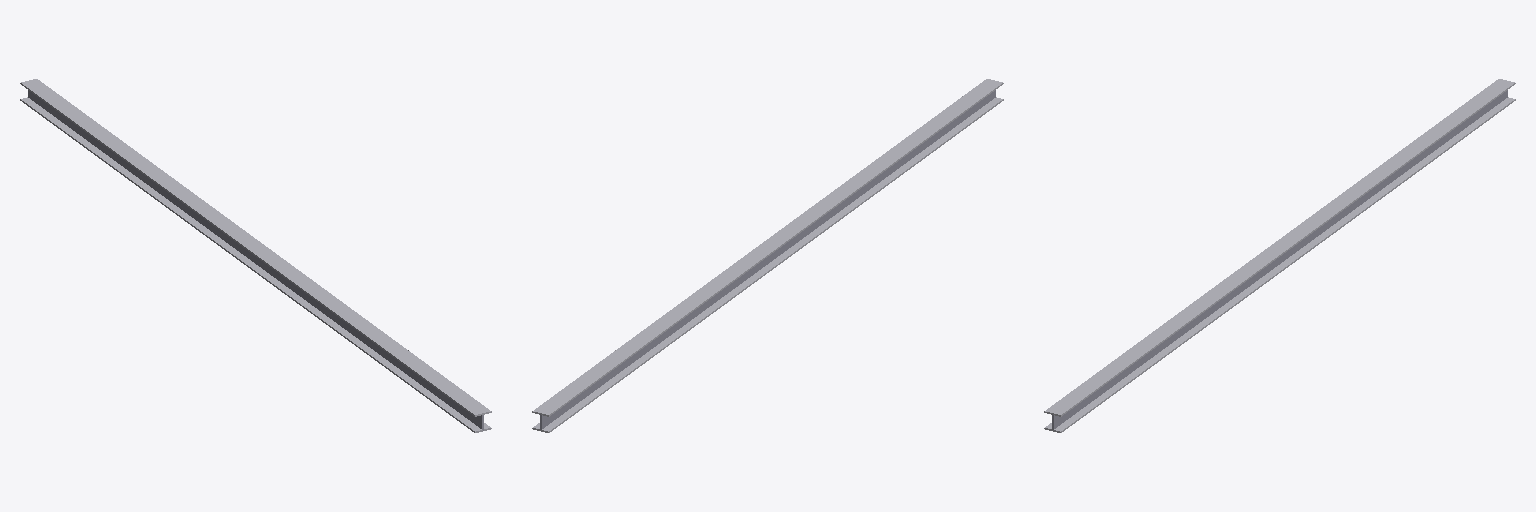
The robot description file, URDF, robot "h_bar":
<?xml version="1.0" ?>
<!-- =================================================================================== -->
<!-- |    This document was autogenerated by xacro from h_bar.xacro                    | -->
<!-- |    EDITING THIS FILE BY HAND IS NOT RECOMMENDED                                 | -->
<!-- =================================================================================== -->
<robot name="h_bar">
  <link name="world"/>
  <!-- Bottom leg (aligned with z-axis after rotation, below origin) -->
  <link name="hbar_bottom_leg">
    <visual>
      <origin rpy="0 1.57079633 0" xyz="0 0 0"/>
      <geometry>
        <!-- thickness x, profile width y, leg length along local z -->
        <box size="0.01 5.0 0.105"/>
      </geometry>
      <material name="hbar_material_bottom">
        <!-- Brushed steel-like gray -->
        <color rgba="0.75 0.75 0.78 1.0"/>
      </material>
    </visual>
    <collision>
      <origin rpy="0 1.57079633 0" xyz="0 0 0"/>
      <geometry>
        <box size="0.01 5.0 0.105"/>
      </geometry>
    </collision>
    <inertial>
      <origin rpy="0 0 0" xyz="0 0 0"/>
      <mass value="0.3333333333333333"/>
      <inertia ixx="0.6947506944444444" ixy="0.0" ixz="0.0" iyy="0.0003090277777777777" iyz="0.0" izz="0.6944472222222222"/>
    </inertial>
  </link>
  <!-- Top leg (aligned with z-axis after rotation, above origin) -->
  <link name="hbar_top_leg">
    <visual>
      <origin rpy="0 1.57079633 0" xyz="0 0 0"/>
      <geometry>
        <box size="0.01 5.0 0.105"/>
      </geometry>
      <material name="hbar_material_top">
        <!-- Brushed steel-like gray -->
        <color rgba="0.75 0.75 0.78 1.0"/>
      </material>
    </visual>
    <collision>
      <origin rpy="0 1.57079633 0" xyz="0 0 0"/>
      <geometry>
        <box size="0.01 5.0 0.105"/>
      </geometry>
    </collision>
    <inertial>
      <origin rpy="0 0 0" xyz="0 0 0"/>
      <mass value="0.3333333333333333"/>
      <inertia ixx="0.6947506944444444" ixy="0.0" ixz="0.0" iyy="0.0003090277777777777" iyz="0.0" izz="0.6944472222222222"/>
    </inertial>
  </link>
  <!-- Crossbar: vertical (aligned with z-axis) at the origin -->
  <link name="hbar_crossbar">
    <visual>
      <!-- Thickness in x,y, length in z -->
      <origin rpy="0 0 0" xyz="0 0 0"/>
      <geometry>
        <box size="0.01 5.0 0.1"/>
      </geometry>
      <material name="hbar_material_cross">
        <!-- Slightly darker steel for visual contrast -->
        <color rgba="0.65 0.65 0.7 1.0"/>
      </material>
    </visual>
    <collision>
      <origin rpy="0 0 0" xyz="0 0 0"/>
      <geometry>
        <box size="0.01 5.0 0.1"/>
      </geometry>
    </collision>
    <inertial>
      <origin rpy="0 0 0" xyz="0 0 0"/>
      <mass value="0.3333333333333333"/>
      <inertia ixx="0.6947222222222222" ixy="0.0" ixz="0.0" iyy="0.0002805555555555556" iyz="0.0" izz="0.6944472222222222"/>
    </inertial>
  </link>
  <!-- Fix crossbar to world; its center is at the macro pose -->
  <joint name="hbar_cross_fix" type="fixed">
    <parent link="world"/>
    <child link="hbar_crossbar"/>
    <origin rpy="0 0 0" xyz="0 0 0"/>
  </joint>
  <!-- Top leg: translated +L_leg/2 in x and +L_span/2 in z relative to crossbar -->
  <joint name="hbar_top_fix" type="fixed">
    <parent link="hbar_crossbar"/>
    <child link="hbar_top_leg"/>
    <origin rpy="0 0.0 0" xyz="0 0 0.05"/>
  </joint>
  <!-- Bottom leg: translated +L_leg/2 in x and -L_span/2 in z relative to crossbar -->
  <joint name="hbar_bottom_fix" type="fixed">
    <parent link="hbar_crossbar"/>
    <child link="hbar_bottom_leg"/>
    <origin rpy="0 0 0" xyz="0 0 -0.05"/>
  </joint>
</robot>

--- Render facts (derived) ---
Views: 3 orthographic renders of the robot side by side, from view 1: azimuth 30°, elevation 25°; view 2: azimuth 150°, elevation 25°; view 3: azimuth 330°, elevation 25°.
Robot: h_bar — 4 links, 3 joints (3 fixed); root link world; default pose: all joints at 0.
Visible links, largest first — view 1: hbar_top_leg, hbar_bottom_leg, hbar_crossbar; view 2: hbar_top_leg, hbar_bottom_leg, hbar_crossbar; view 3: hbar_top_leg, hbar_bottom_leg, hbar_crossbar.
Link boxes in pixels (bbox=[...]): hbar_top_leg: bbox=[20, 79, 491, 416]; hbar_bottom_leg: bbox=[20, 97, 491, 432]; hbar_crossbar: bbox=[28, 90, 483, 430]; hbar_top_leg: bbox=[532, 79, 1003, 416]; hbar_bottom_leg: bbox=[532, 97, 1003, 432]; hbar_crossbar: bbox=[540, 90, 995, 429]; hbar_top_leg: bbox=[1044, 79, 1515, 416]; hbar_bottom_leg: bbox=[1044, 97, 1515, 432]; hbar_crossbar: bbox=[1052, 90, 1507, 429].
Bounding box of the posed robot: 0.105 × 5 × 0.11 m (x, y, z).
Geometry: primitives only (box / cylinder / sphere), no mesh files.
